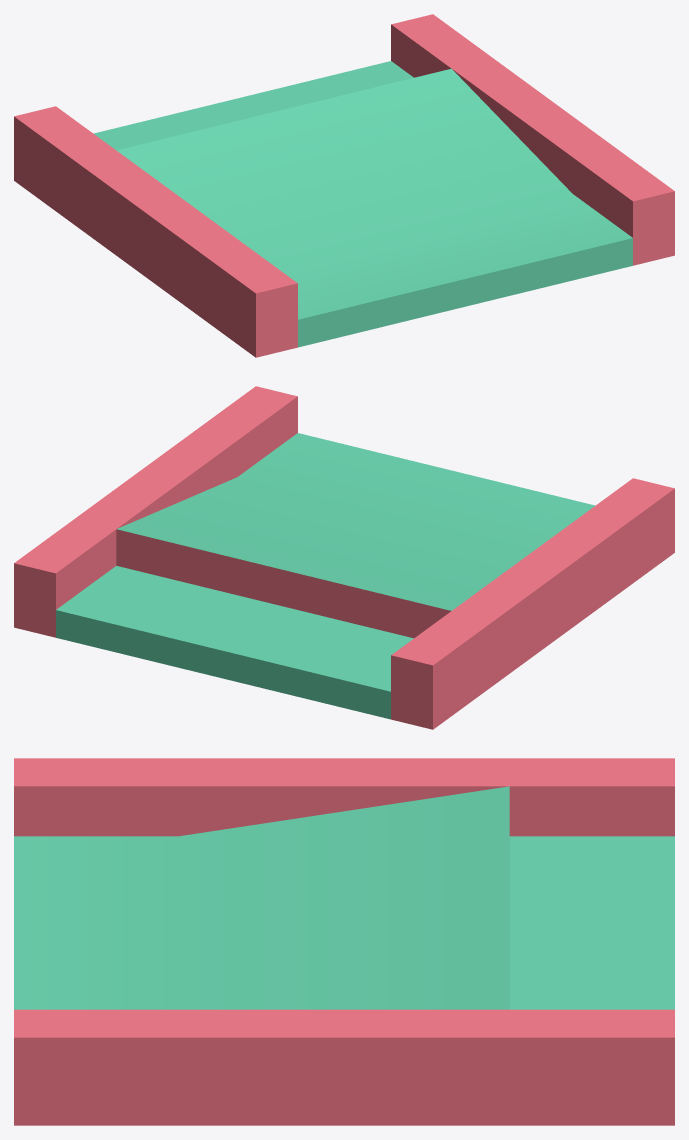
File: rampSharp.glb
3 renders of one model, top to bottom at view 1: azimuth 30°, elevation 25°; view 2: azimuth 150°, elevation 25°; view 3: azimuth 270°, elevation 25°, orthographic. The views are drawn at different scales.
Parts seen in each view (by area): view 1: rampSharp; view 2: rampSharp; view 3: rampSharp.
Part boxes in pixels (box(x1,y1,x2,y2)): rampSharp: box(14, 14, 674, 357); rampSharp: box(14, 386, 674, 729); rampSharp: box(14, 758, 674, 1125).
Bounding box in the file's own units: 0.9999 × 0.1467 × 0.9999.
